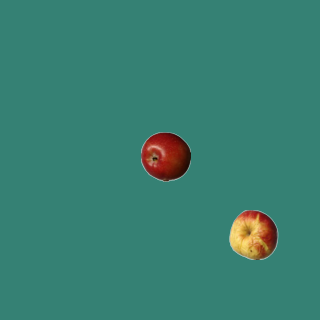Apple Braeburn: (140, 131, 190, 181)
Apple Red Yellow 1: (228, 209, 278, 259)
